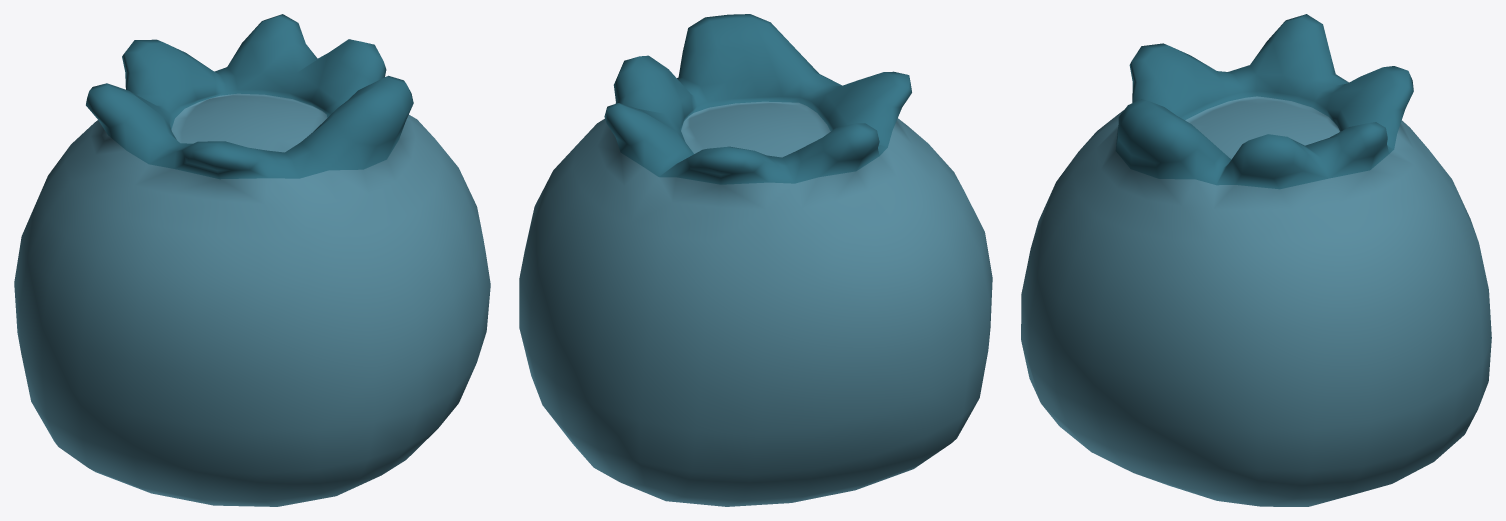
File: Blueberry_01.dae
3 renders of one model, left to right at view 1: azimuth 30°, elevation 25°; view 2: azimuth 150°, elevation 25°; view 3: azimuth 270°, elevation 25°, orthographic.
Parts seen in each view (by area): view 1: Blueberry_01_LOD0; view 2: Blueberry_01_LOD0; view 3: Blueberry_01_LOD0.
Part boxes in pixels (x1,y1,x2,y2): Blueberry_01_LOD0: (14,14,490,506); Blueberry_01_LOD0: (519,14,992,506); Blueberry_01_LOD0: (1021,14,1491,506).
Size of what is drawn, in the model's own units: 2.11 by 2.03 by 1.91.
